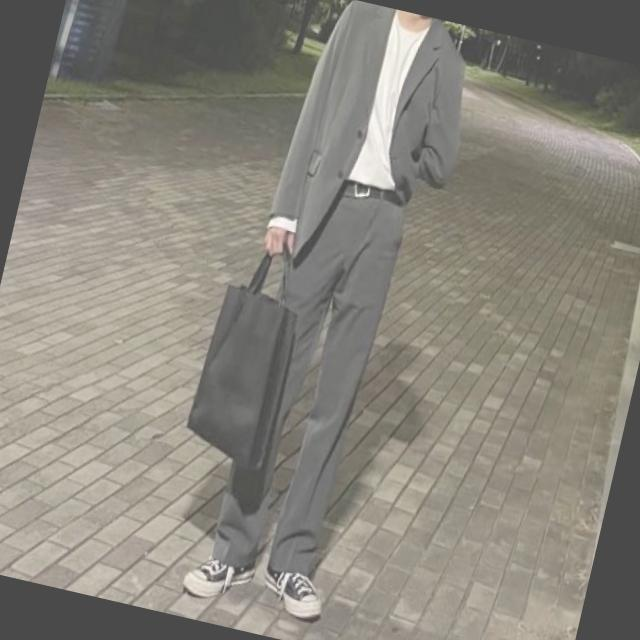blazer: (261, 0, 491, 300)
slacks: (204, 167, 408, 591)
